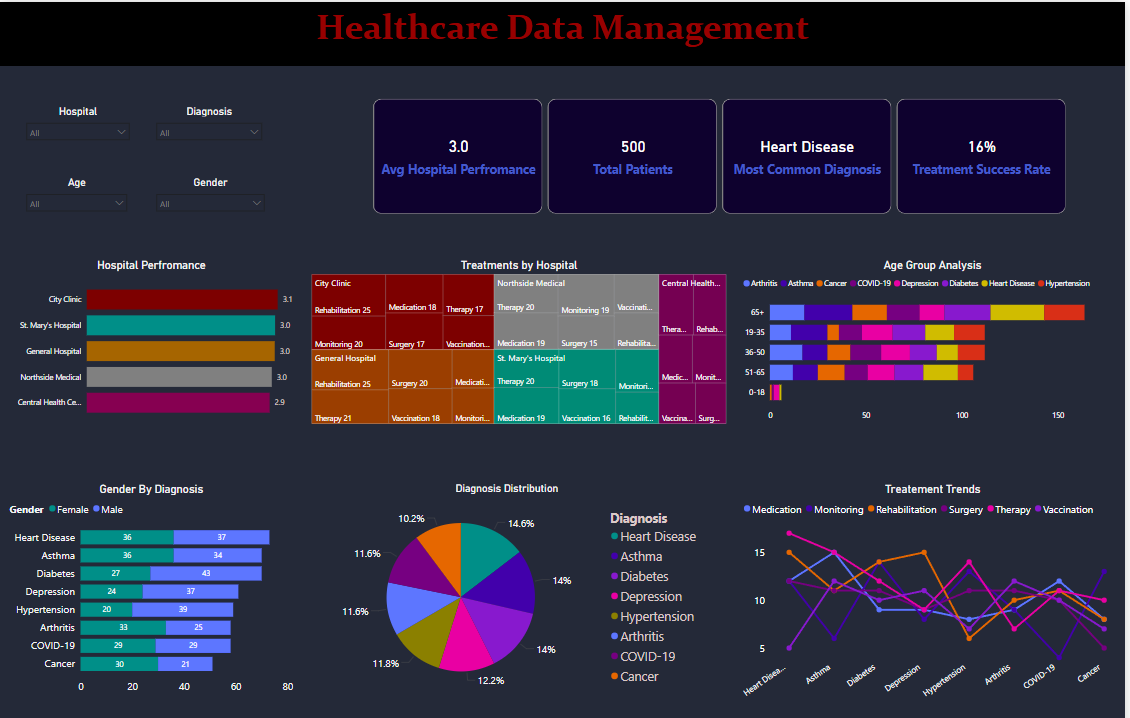

This screenshot's page, from the dashboard's own definition file:
{"tool":"powerbi","page":{"name":"Home","canvas":[1800,1200],"ordinal":0},"visuals":[{"type":"slicer","title":"Hospital","fields":{"Values":["Healthcare_Data.Hospital"]},"box":[31.5,164.3,185.2,65.9],"z":0},{"type":"slicer","title":"Diagnosis","fields":{"Values":["Healthcare_Data.Diagnosis"]},"box":[240.1,164.3,189.4,65.9],"z":1000},{"type":"slicer","title":"Gender","fields":{"Values":["Healthcare_Data.Gender"]},"box":[239.7,278.4,193.5,65.7],"z":2000},{"type":"slicer","title":"Age","fields":{"Values":["Healthcare_Data.Age_Group"]},"box":[32.4,278.4,181.4,65.7],"z":3000},{"type":"cardVisual","fields":{"Data":["key_measures.Avg_Hospital_Performance","key_measures.Total_Patients","key_measures.Most_Common_Diagnosis","key_measures.Treatment_Success_Rate"]},"box":[591,149.3,1118.6,194.3],"z":4000},{"type":"barChart","title":"Hospital Perfromance","fields":{"Category":["Healthcare_Data.Hospital"],"Y":["key_measures.Avg_Hospital_Performance"]},"box":[10.2,409,464.2,269.9],"z":5000},{"type":"pieChart","title":"Diagnosis Distribution","fields":{"Y":["CountNonNull(Healthcare_Data.Patient_ID)"],"Category":["Healthcare_Data.Diagnosis"]},"box":[494.9,768.9,634,349.7],"z":6000},{"type":"barChart","title":"Gender By Diagnosis","fields":{"Category":["Healthcare_Data.Diagnosis"],"Y":["CountNonNull(Healthcare_Data.Patient_ID)"],"Series":["Healthcare_Data.Gender"]},"box":[10.2,768.9,464.2,349.7],"z":7000},{"type":"treemap","title":"Treatments by Hospital","fields":{"Values":["CountNonNull(Healthcare_Data.Patient_ID)"],"Group":["Healthcare_Data.Hospital"],"Details":["Healthcare_Data.Treatment"]},"box":[494.9,409,672.8,269.9],"z":8000},{"type":"lineChart","title":"Treatement Trends","fields":{"Category":["Healthcare_Data.Diagnosis"],"Y":["CountNonNull(Healthcare_Data.Patient_ID)"],"Series":["Healthcare_Data.Treatment"]},"box":[1184.1,750.5,615.5,368.1],"z":9000},{"type":"barChart","title":"Age Group Analysis","fields":{"Y":["CountNonNull(Healthcare_Data.Patient_ID)"],"Category":["Healthcare_Data.Age_Group"],"Series":["Healthcare_Data.Diagnosis"]},"box":[1184.1,409,615.5,269.9],"z":10000},{"type":"textbox","box":[0,0,1799.6,102.3],"z":11000}]}

Visuals, with their boxes on the page's 1800x1200 design canvas (x1, y1, x2, y2). These are canvas units, not pixel positions in the 1130x718 screenshot, which may show the page scaled, cropped or inside an application window:
"Hospital" slicer: bbox(32, 164, 217, 230)
"Diagnosis" slicer: bbox(240, 164, 430, 230)
"Gender" slicer: bbox(240, 278, 433, 344)
"Age" slicer: bbox(32, 278, 214, 344)
cardVisual - key_measures.Avg_Hospital_Performance x key_measures.Total_Patients: bbox(591, 149, 1710, 344)
"Hospital Perfromance" barChart: bbox(10, 409, 474, 679)
"Diagnosis Distribution" pieChart: bbox(495, 769, 1129, 1119)
"Gender By Diagnosis" barChart: bbox(10, 769, 474, 1119)
"Treatments by Hospital" treemap: bbox(495, 409, 1168, 679)
"Treatement Trends" lineChart: bbox(1184, 750, 1800, 1119)
"Age Group Analysis" barChart: bbox(1184, 409, 1800, 679)
textbox: bbox(0, 0, 1800, 102)
